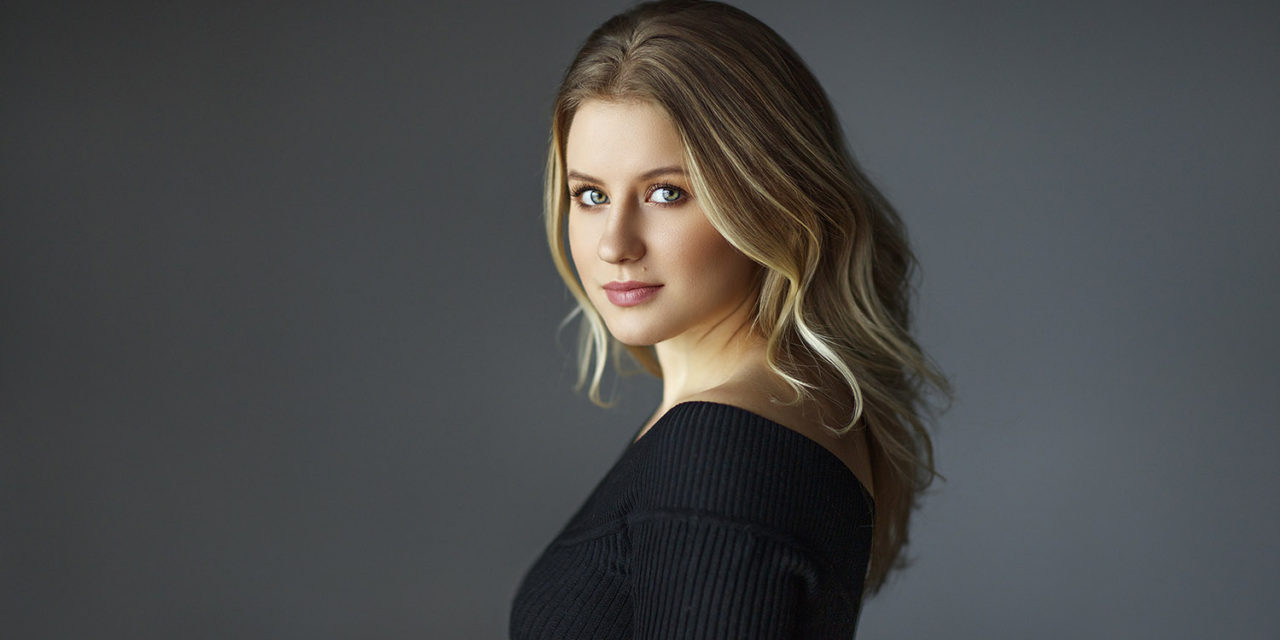bare: (570, 223, 743, 347)
